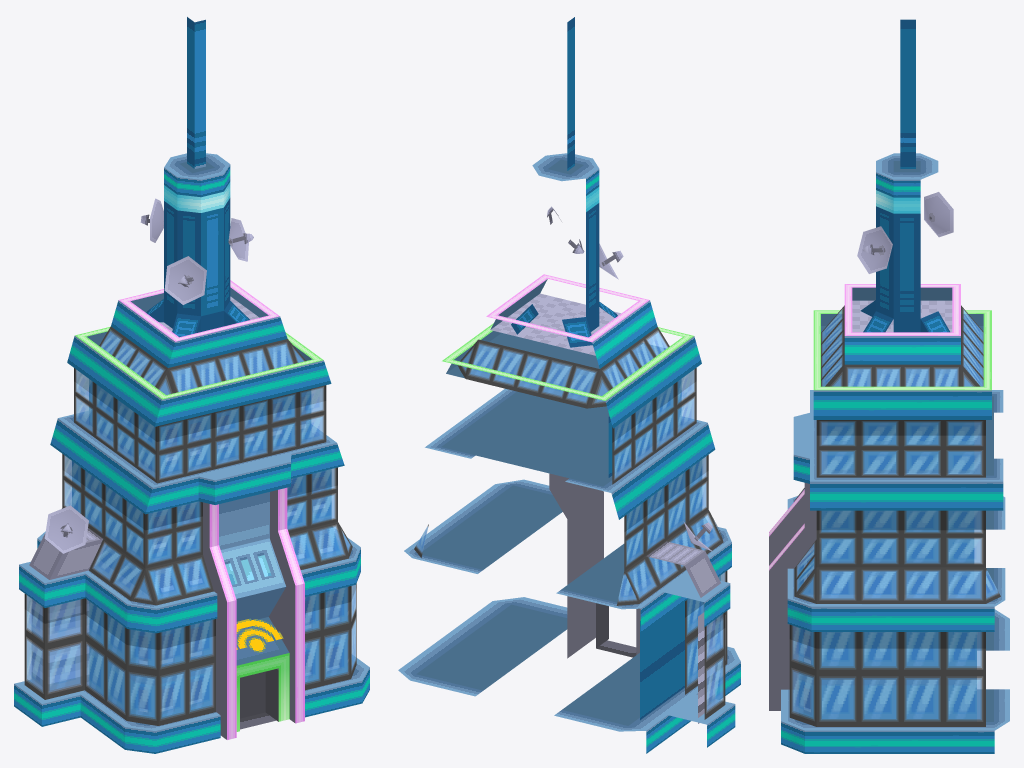
The picture shows the model from 3 angles, left to right: view 1: azimuth 30°, elevation 25°; view 2: azimuth 150°, elevation 25°; view 3: azimuth 270°, elevation 25°; orthographic projection.
Bounding box in the file's own units: 9.35 × 20.94 × 6.76.
6 materials, 6 textured.
